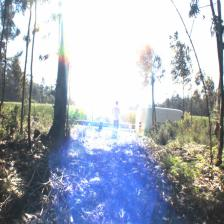trunktrack_idkeyframe: (43, 60, 70, 135), (215, 38, 224, 166)
